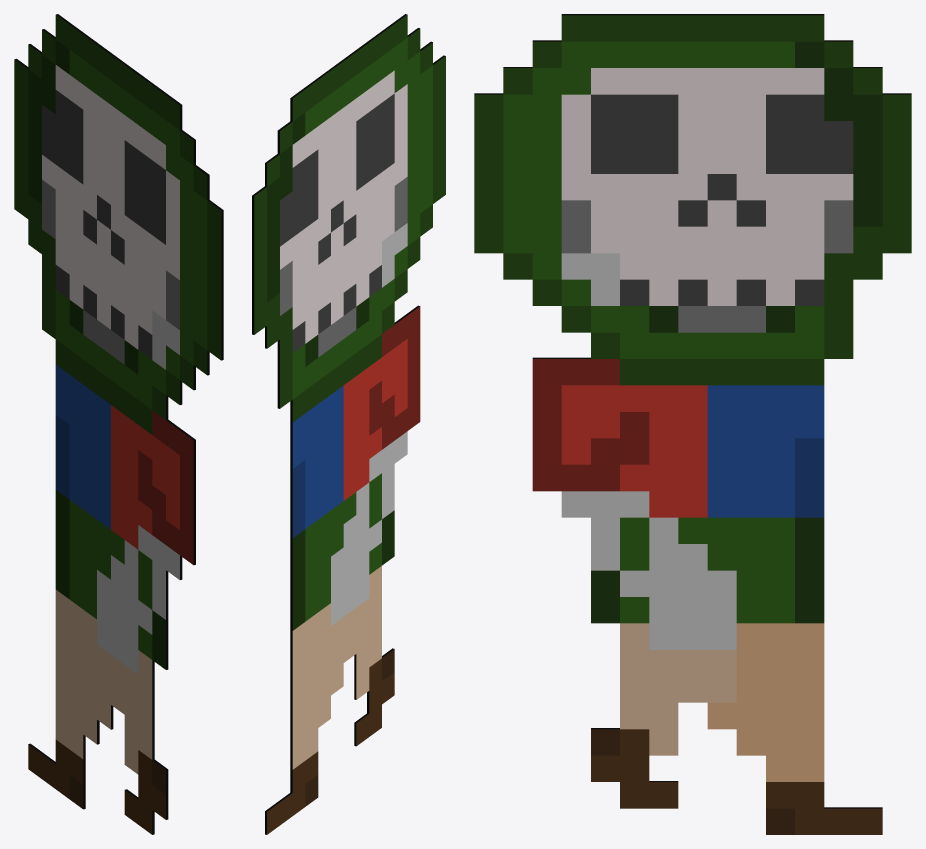
The model's file is Enemy2WC3.fbx.
3 views of the same model, side by side, from view 1: azimuth 30°, elevation 25°; view 2: azimuth 150°, elevation 25°; view 3: azimuth 270°, elevation 25° (orthographic). The views are drawn at different scales.
Visible parts, largest first — view 1: Cube; view 2: Cube; view 3: Cube.
Boxes of the visible parts, bbox=[...] form: Cube: bbox=[14, 14, 223, 834]; Cube: bbox=[252, 14, 445, 834]; Cube: bbox=[474, 14, 911, 834].
Bounding box in the file's own units: 20 × 6200 × 3000.
